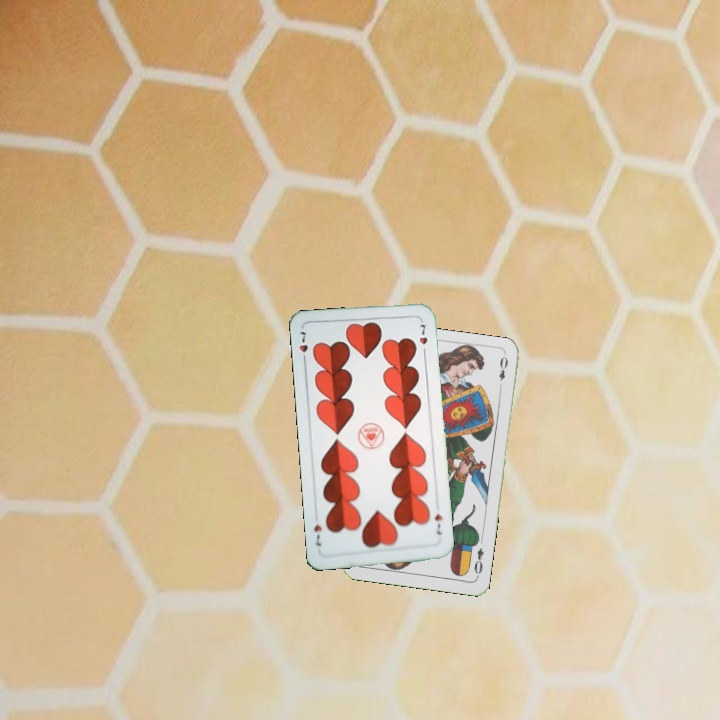EO: (470, 544, 487, 580)
H7: (295, 326, 310, 366), (431, 510, 444, 537)
